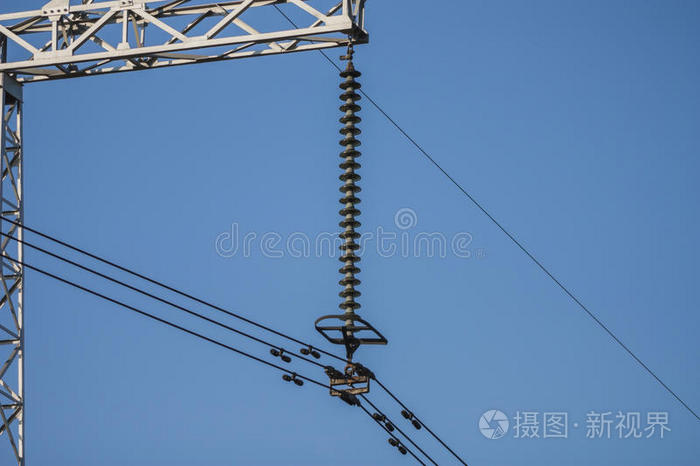insulator: (337, 69, 364, 326)
